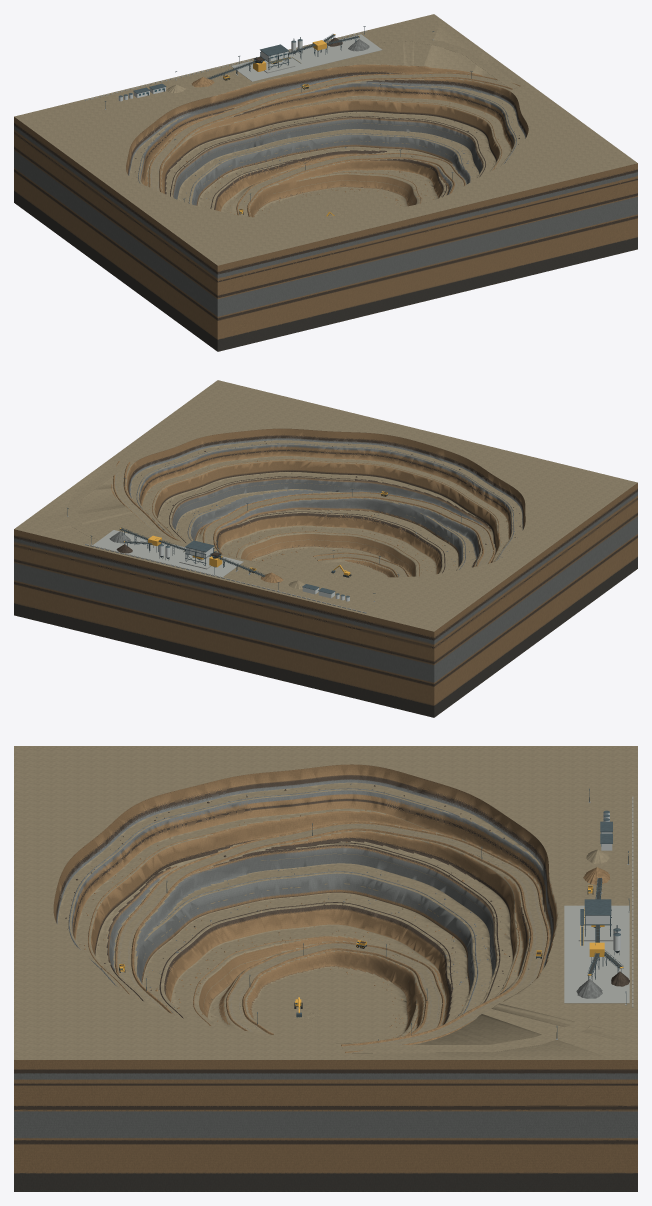
File: quarry.glb
The picture shows the model from 3 angles, top to bottom: view 1: azimuth 30°, elevation 25°; view 2: azimuth 150°, elevation 25°; view 3: azimuth 270°, elevation 25°; orthographic projection. The views are drawn at different scales.
Visible parts, largest first — view 1: GEO_001 / solid terraced ground, ROAD_001 / continuous spiral haul ramp, SITE_001 / yard and service infrastructure, ROAD_002 / outer earth safety windrow, PLANT_002 / crusher cladding and machinery, ROAD_003 / inner earth safety windrow, ROAD_004 / crusher access, STOCK_001 / crushed aggregate stockpiles; view 2: GEO_001 / solid terraced ground, ROAD_001 / continuous spiral haul ramp, SITE_001 / yard and service infrastructure, PLANT_002 / crusher cladding and machinery, ROAD_002 / outer earth safety windrow, ROAD_004 / crusher access, ROAD_003 / inner earth safety windrow, STOCK_001 / crushed aggregate stockpiles, BERM_06_01 / catch bench rubble; view 3: GEO_001 / solid terraced ground, ROAD_001 / continuous spiral haul ramp, SITE_001 / yard and service infrastructure, ROAD_002 / outer earth safety windrow, ROAD_004 / crusher access, ROAD_003 / inner earth safety windrow, PLANT_002 / crusher cladding and machinery, STOCK_001 / crushed aggregate stockpiles, GEO_002 / bench talus and blasted fragments, BERM_06_01 / catch bench rubble, BERM_03_00 / catch bench rubble.
Part boxes in pixels (bbox=[...]): GEO_001 / solid terraced ground: bbox=[14, 14, 637, 351]; ROAD_001 / continuous spiral haul ramp: bbox=[150, 73, 515, 216]; SITE_001 / yard and service infrastructure: bbox=[222, 34, 382, 81]; ROAD_002 / outer earth safety windrow: bbox=[159, 77, 512, 216]; PLANT_002 / crusher cladding and machinery: bbox=[118, 37, 326, 101]; ROAD_003 / inner earth safety windrow: bbox=[148, 72, 520, 215]; ROAD_004 / crusher access: bbox=[369, 36, 520, 88]; STOCK_001 / crushed aggregate stockpiles: bbox=[166, 37, 369, 93]; GEO_001 / solid terraced ground: bbox=[14, 380, 637, 717]; ROAD_001 / continuous spiral haul ramp: bbox=[114, 462, 493, 577]; SITE_001 / yard and service infrastructure: bbox=[92, 530, 250, 577]; PLANT_002 / crusher cladding and machinery: bbox=[148, 535, 349, 601]; ROAD_002 / outer earth safety windrow: bbox=[123, 462, 483, 577]; ROAD_004 / crusher access: bbox=[66, 461, 128, 539]; ROAD_003 / inner earth safety windrow: bbox=[113, 461, 494, 576]; STOCK_001 / crushed aggregate stockpiles: bbox=[109, 531, 305, 589]; BERM_06_01 / catch bench rubble: bbox=[156, 443, 514, 560]; GEO_001 / solid terraced ground: bbox=[14, 746, 637, 1191]; ROAD_001 / continuous spiral haul ramp: bbox=[117, 823, 546, 1048]; SITE_001 / yard and service infrastructure: bbox=[564, 892, 629, 1003]; ROAD_002 / outer earth safety windrow: bbox=[131, 828, 532, 1046]; ROAD_004 / crusher access: bbox=[343, 1003, 606, 1053]; ROAD_003 / inner earth safety windrow: bbox=[115, 822, 549, 1053]; PLANT_002 / crusher cladding and machinery: bbox=[584, 810, 620, 956]; STOCK_001 / crushed aggregate stockpiles: bbox=[576, 849, 629, 998]; GEO_002 / bench talus and blasted fragments: bbox=[65, 783, 534, 1037]; BERM_06_01 / catch bench rubble: bbox=[68, 788, 459, 986]; BERM_03_00 / catch bench rubble: bbox=[157, 871, 478, 1014].
Bounding box in the file's own units: 1000 × 233 × 840.
Materials: 16 (6 with a texture image).
